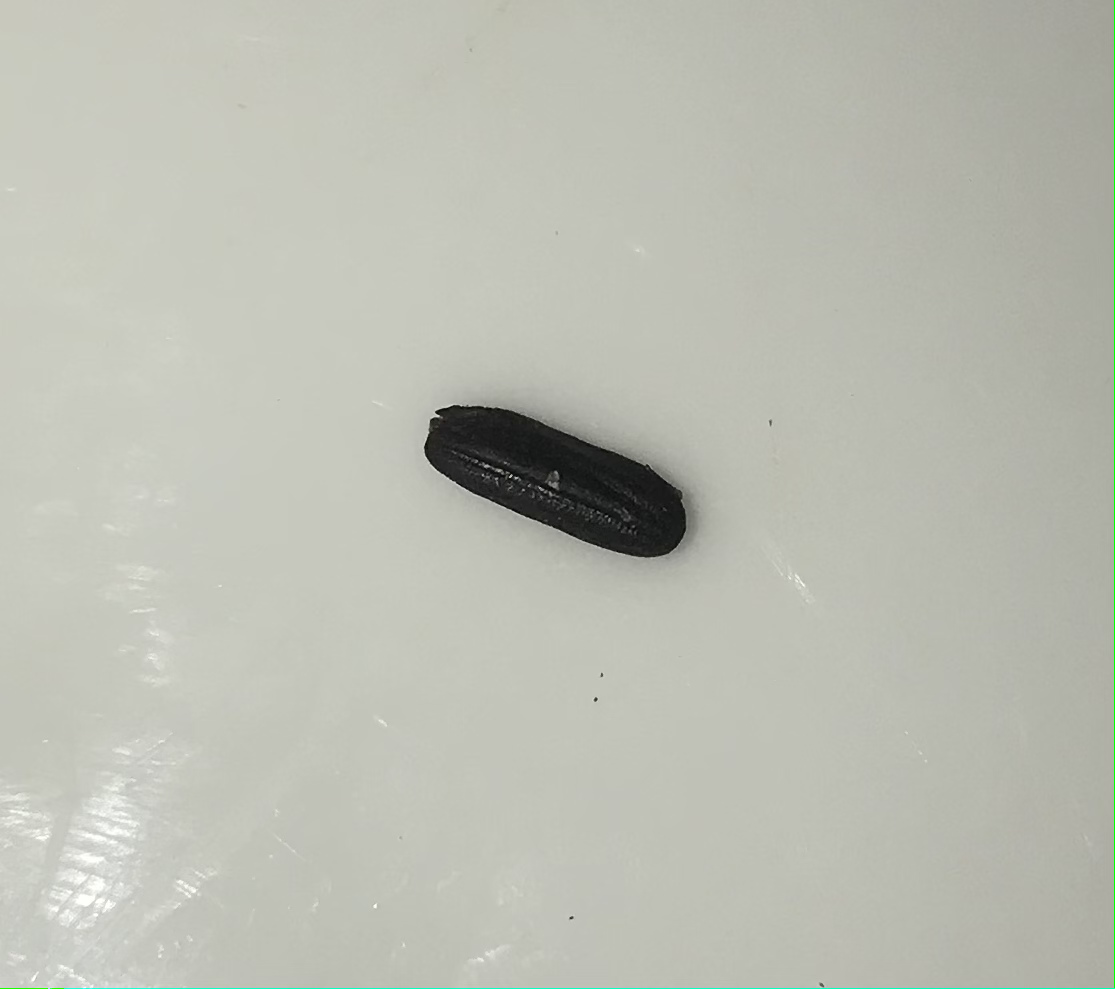Gao lut: (411, 376, 699, 582)
